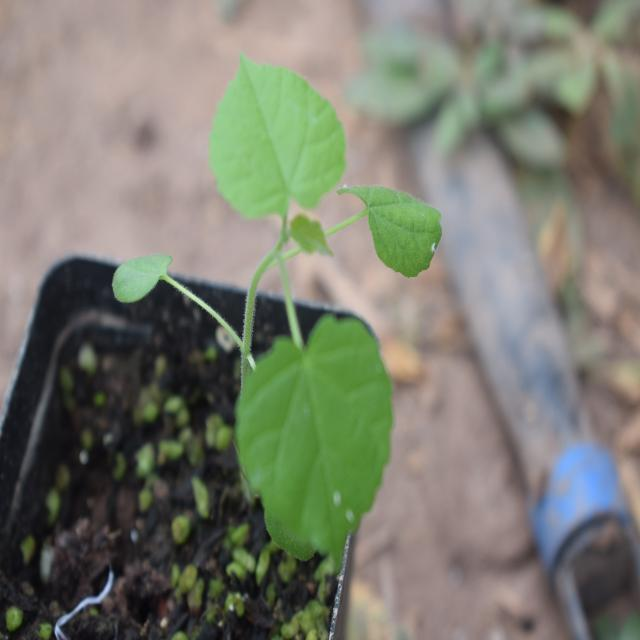abutilon theophrasti: (182, 40, 429, 541)
